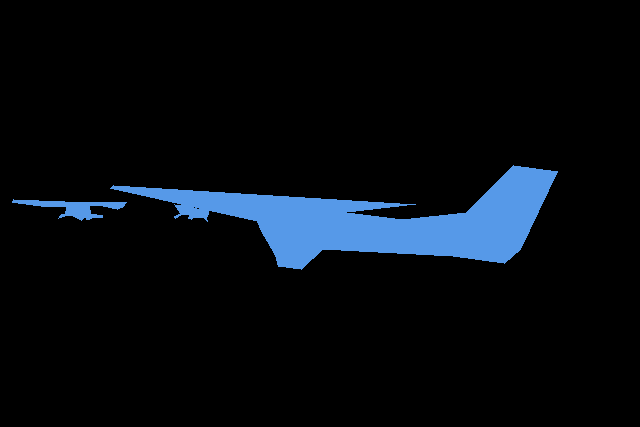Airplane: (110, 165, 558, 269), (12, 199, 126, 221), (174, 204, 208, 221)
